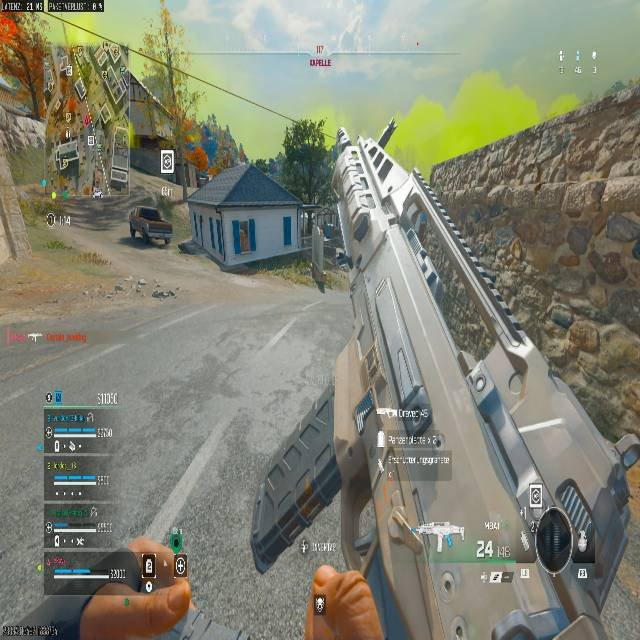player: (335, 247, 351, 270)
